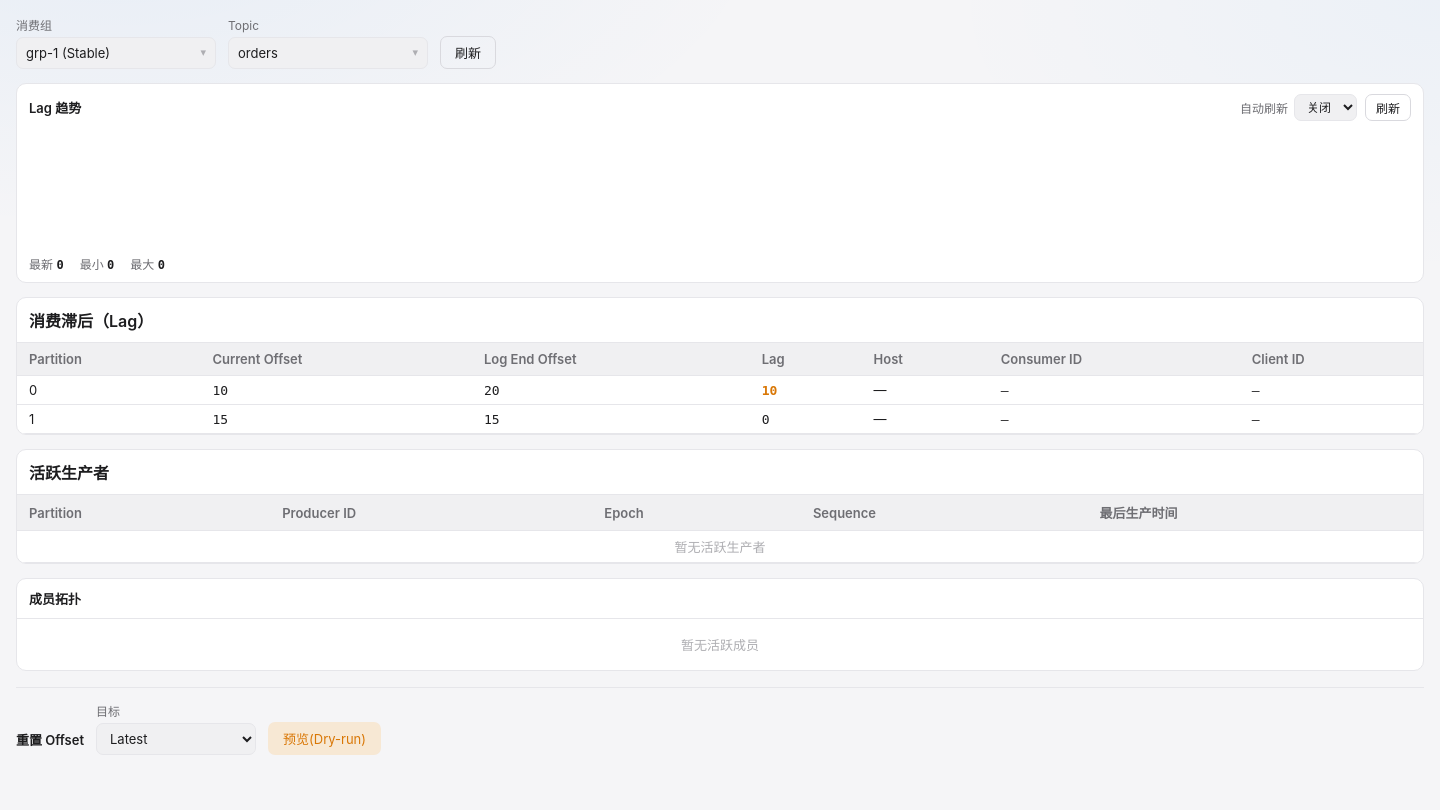
Scenario: ConsumerGroupView › previews the affected partitions with current and new offsets before resetting
Check: the number of rows with test id "lag-row" is 2, box [17,376,1423,405]; [17,405,1423,434]
Click the button with test id "btn-dry-run": {"x": 324, "y": 739} [268,722,381,755]
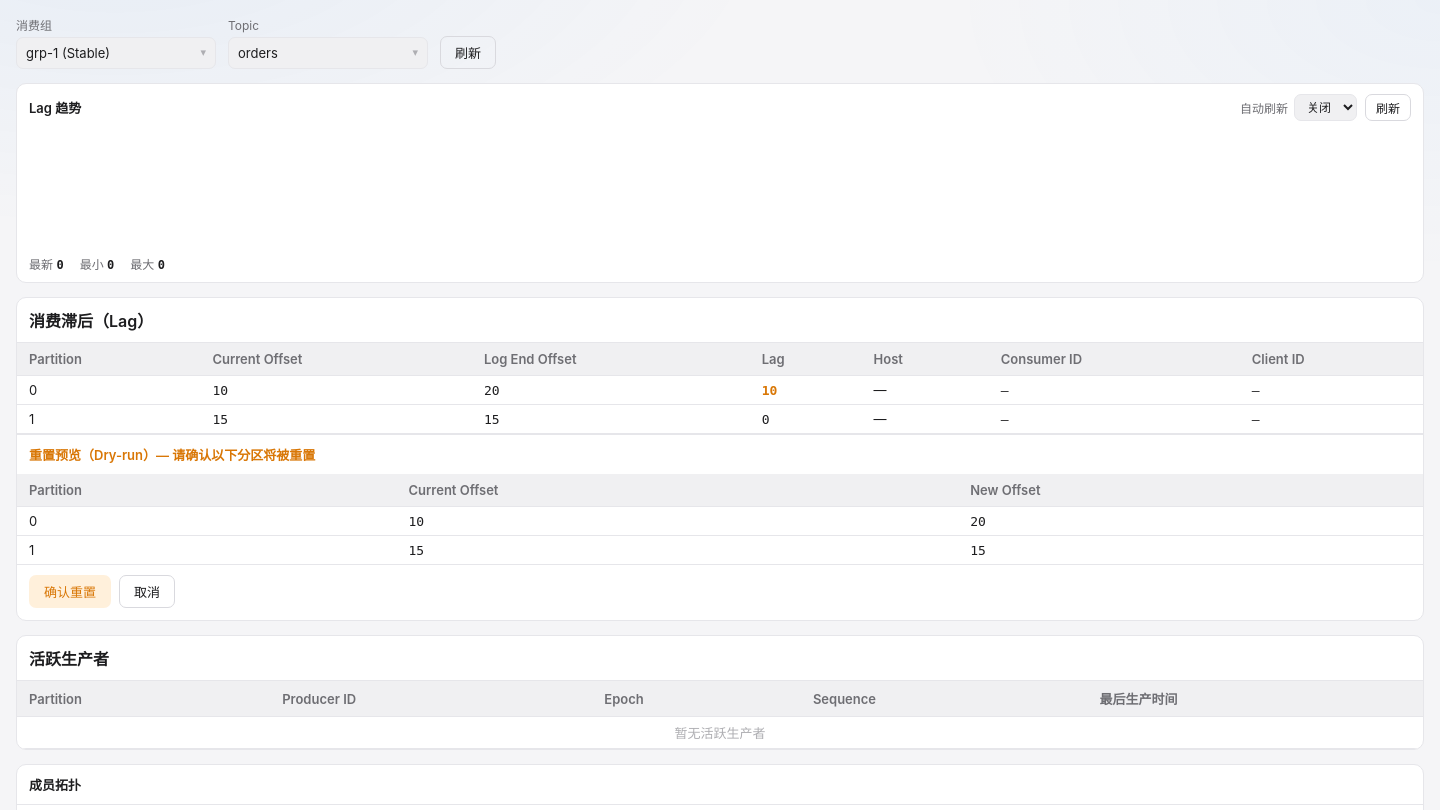
Check: the number of rows with test id "dry-run-row" is 2, box [17,507,1423,536]; [17,536,1423,565]
Check: the row with test id "dry-run-row" shows "0", box [29,513,37,529]
Check: the row with test id "dry-run-row" shows "10", box [408,514,424,529]
